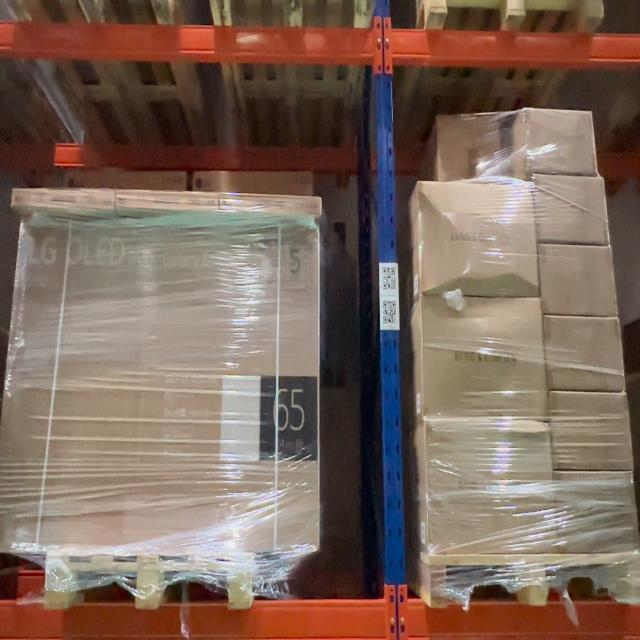box: (22, 215, 319, 553), (427, 420, 551, 550), (424, 298, 540, 417), (422, 182, 531, 292), (560, 472, 632, 552), (554, 394, 626, 468), (550, 319, 618, 389), (543, 247, 611, 314), (538, 178, 604, 240), (528, 109, 591, 172), (438, 118, 501, 180), (193, 171, 312, 192), (13, 188, 115, 212), (220, 193, 321, 216), (117, 191, 218, 212), (63, 171, 187, 187)
